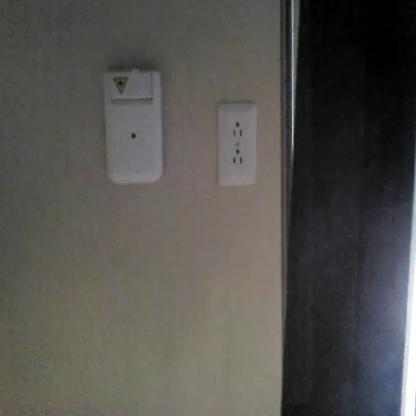OUTLET: (218, 102, 256, 186)
